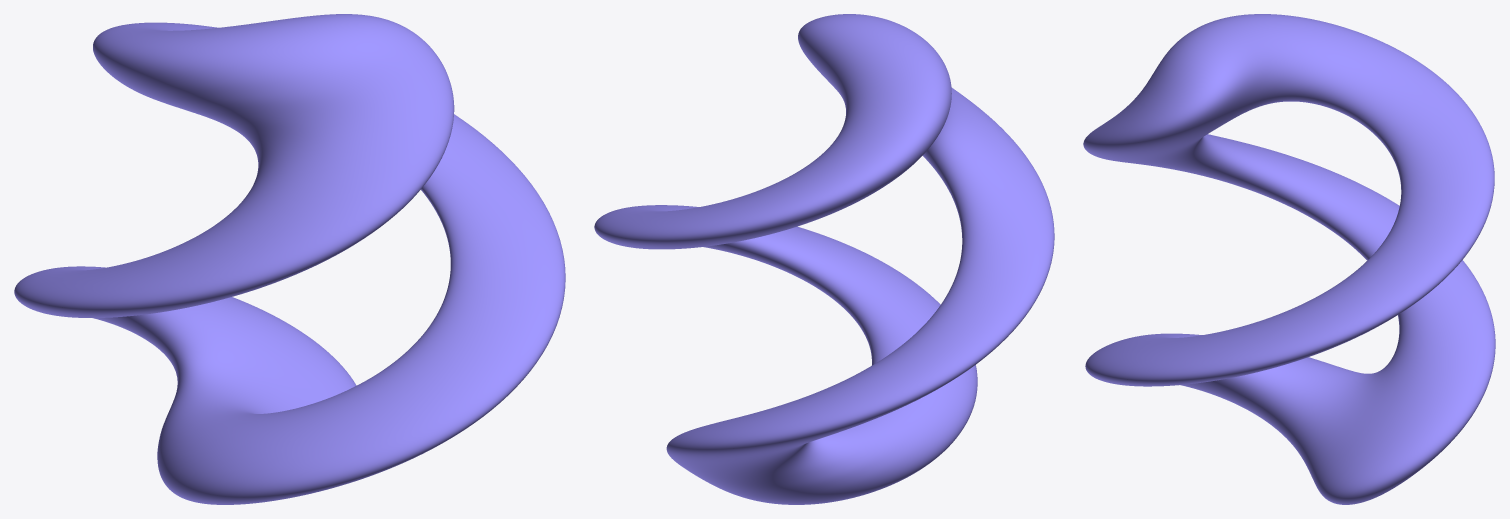
The model's file is twist.gltf.
3 views of the same model, side by side, from view 1: azimuth 30°, elevation 25°; view 2: azimuth 150°, elevation 25°; view 3: azimuth 270°, elevation 25° (orthographic). The views are drawn at different scales.
Parts seen in each view (by area): view 1: TwistedTorus; view 2: TwistedTorus; view 3: TwistedTorus.
Part boxes in pixels (x1=…): TwistedTorus: x1=14, y1=14, x2=565, y2=504; TwistedTorus: x1=594, y1=14, x2=1054, y2=504; TwistedTorus: x1=1083, y1=14, x2=1495, y2=504.
Size of the model in its own units: 2.41 by 2.47 by 2.13.
